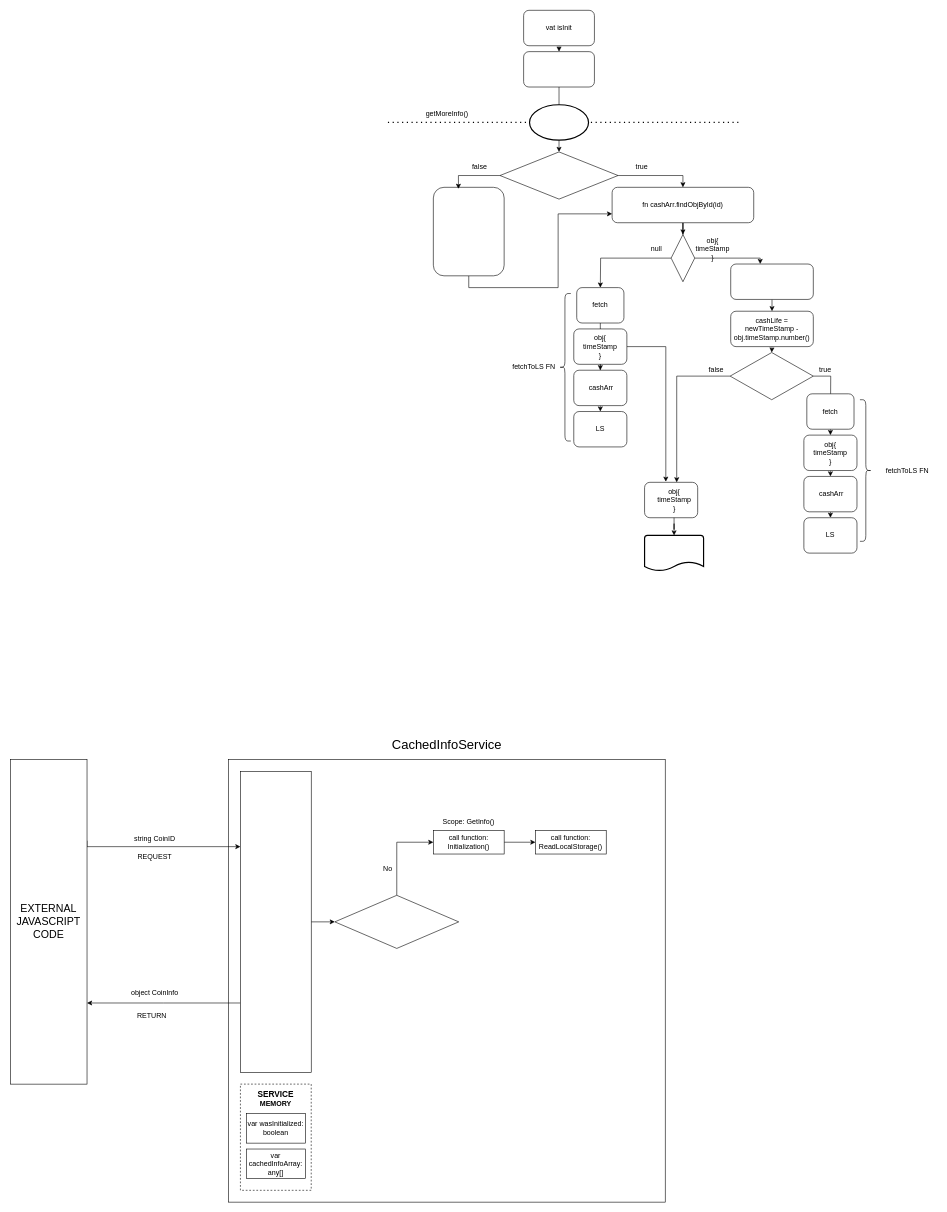
Image size: 947x1212. Some labels were removed from this diagram. Here are the shapes that lost their labels. From the top down, the box of each, then its label:
(523, 51, 594, 87): const cashArr
(529, 104, 589, 140): start
(499, 151, 618, 199): isInit
(433, 187, 504, 276): fn init(){ readFromLs() cashArr.push isInit = true }
(730, 263, 813, 299): nowTimeStamp
(730, 352, 813, 400): cashLife > 2min
(644, 535, 704, 571): print to UI
(240, 771, 311, 1072): EntryPoint: GetInfo()
(334, 895, 459, 948): Was CacheInfoService Initialized ?
